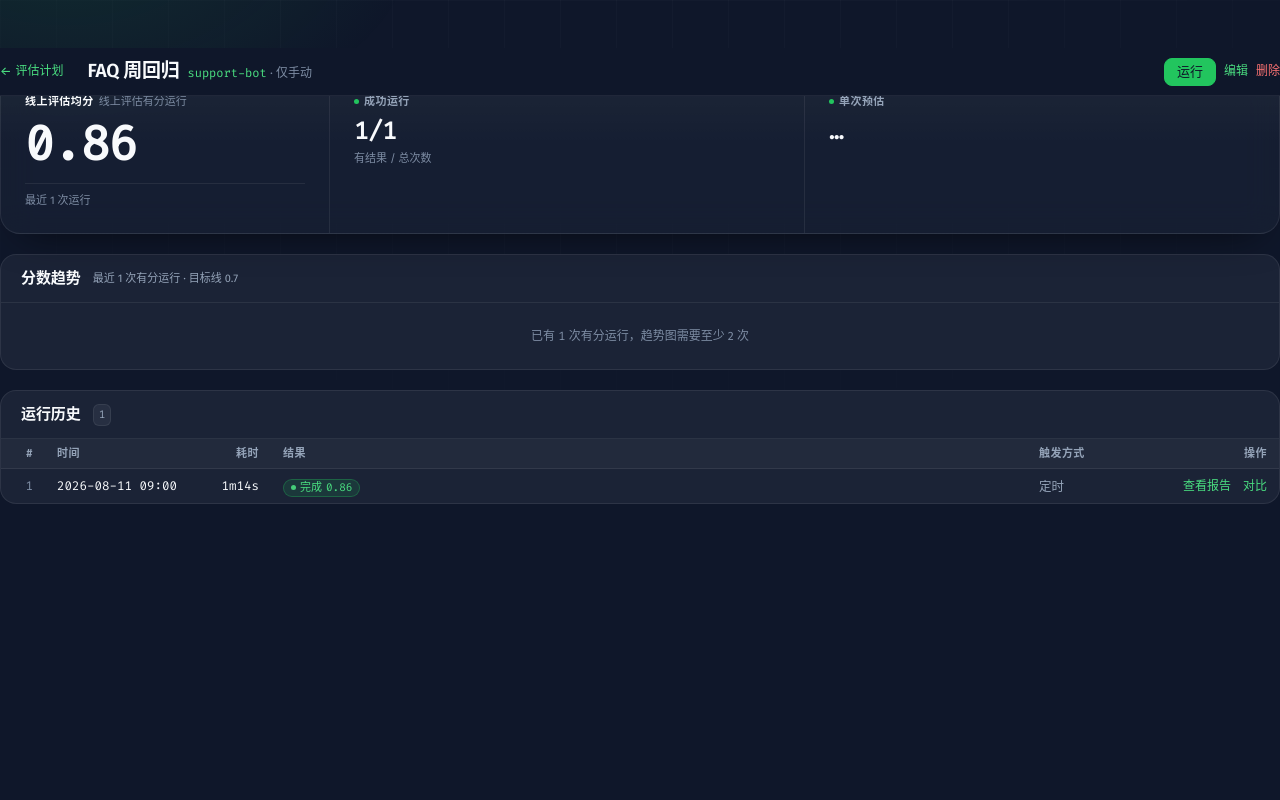
Test: 停止入口的出现条件 › 拿不到 run_key 的窗口期：进度卡停止入口置灰 + 说明，绝不发猜的 key
The image size is (1280, 800).
Expected: the table with test id "plan-runs-table" is shown, [1,440,1279,504]
Click the button with test id "plan-run".
click(1190, 72)  # box [1164,58,1216,86]
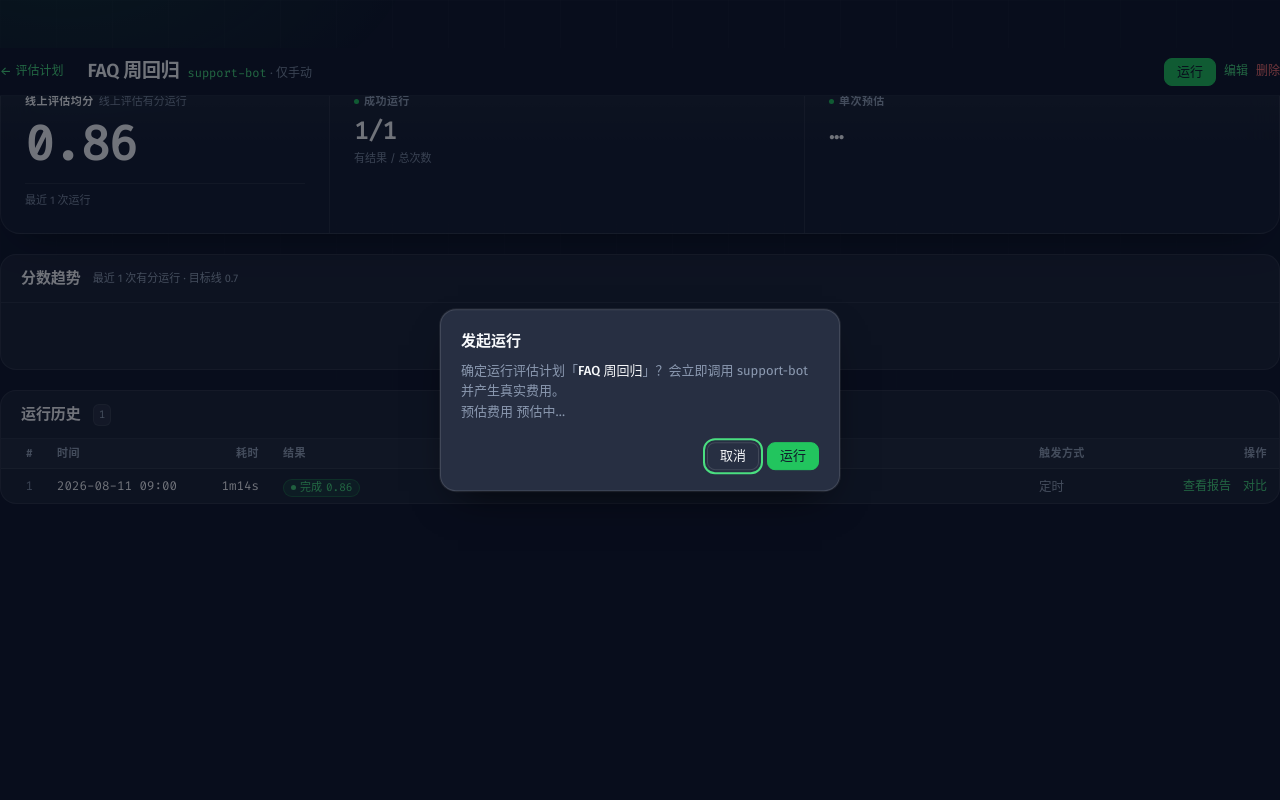
Click the button with test id "confirm-card-ok".
click(793, 456)  # box [767,442,819,470]
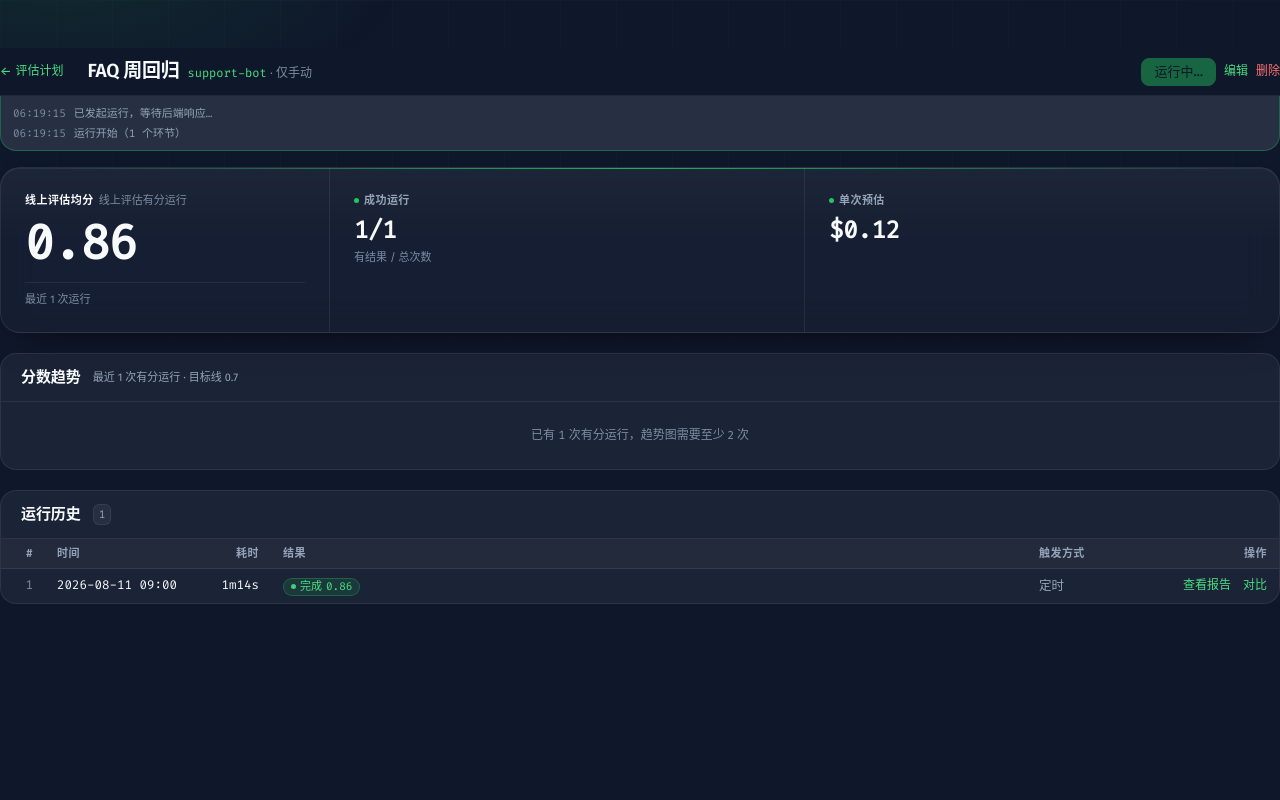
Expected: the message with test id "plan-run-progress" is shown, [0,68,1279,151]
Expected: the element with test id "plan-run-progress-log" shows "运行开始", [74,126,186,141]
Expected: the text with test id "plan-run-stop-hint" shows "运行标识", [970,82,1267,96]
